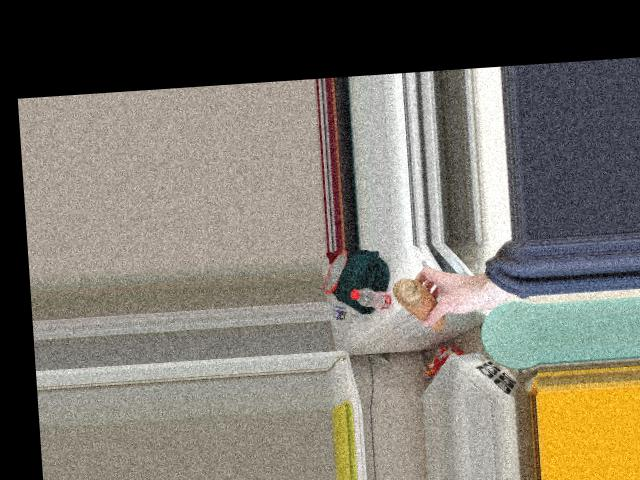sweet_potato: (393, 271, 446, 337)
